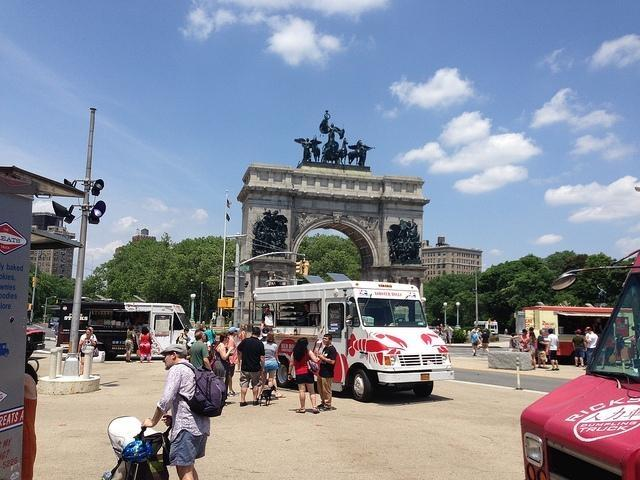truck: (249, 278, 454, 401), (520, 324, 640, 480), (508, 304, 640, 368), (56, 301, 196, 361), (474, 320, 498, 334)
